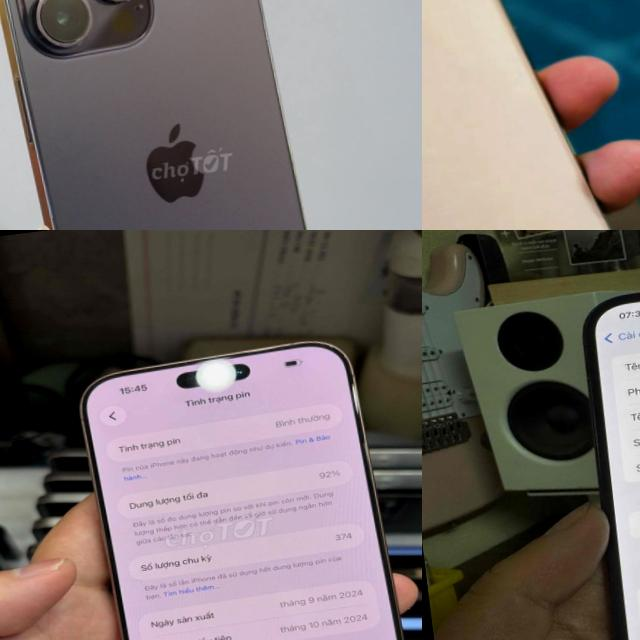gen_11: (422, 0, 640, 230)
gen_12_13: (556, 249, 640, 640)
gen_14: (0, 0, 355, 230)
gen_16: (81, 341, 403, 640)
